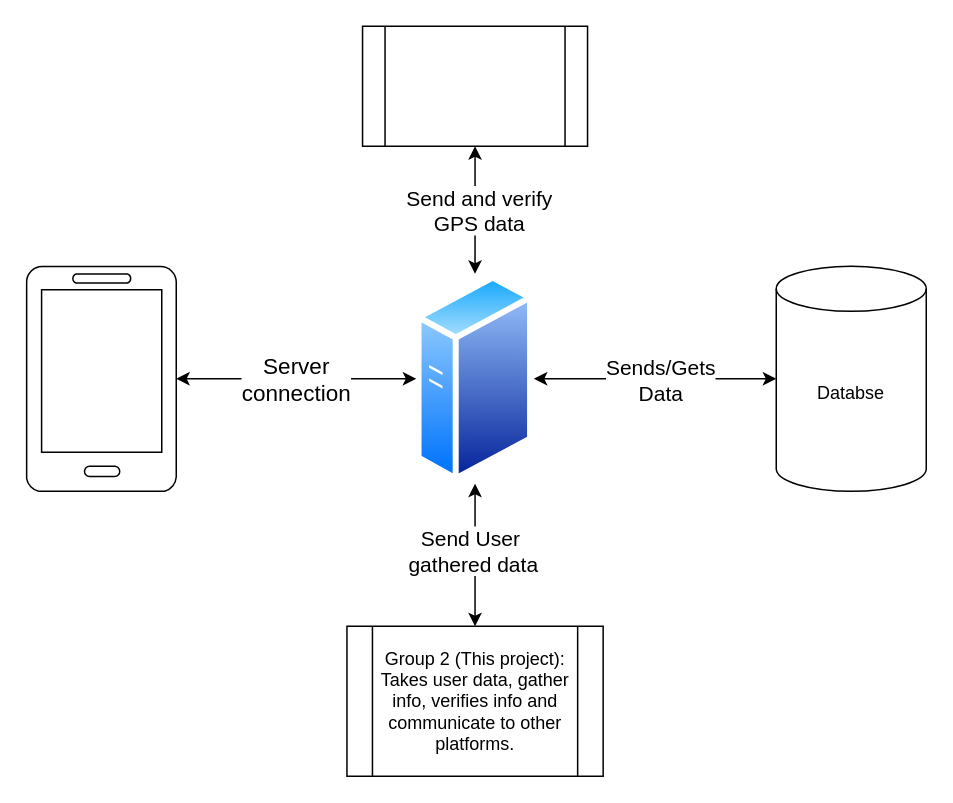
This 953x803 diagram has some shape labels left out. The shapes that lost their labels are listed below. From the top down, each one's centre as x and y in pixels, then its label:
[474,85]: Group 3: Handle location data and validation
[100,378]: Our App
